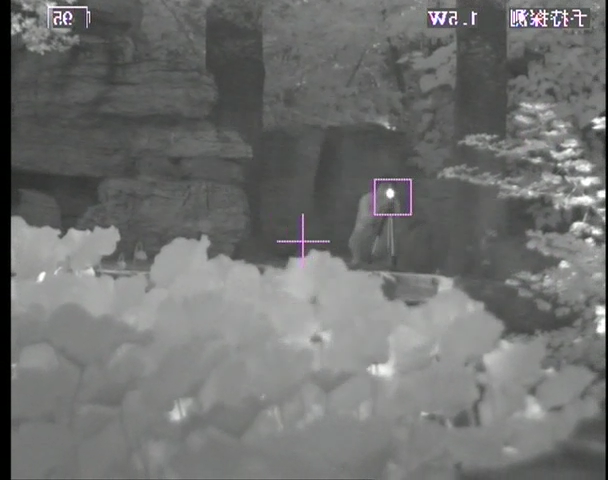my: (384, 186, 398, 201)
